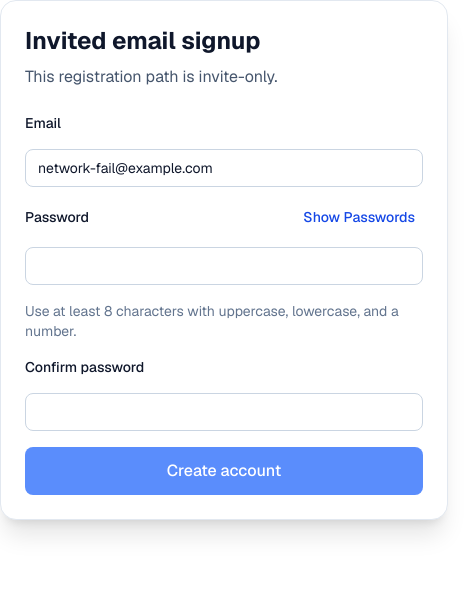
Test: InviteEmailSignupForm › shows generic error on network failure
This screenshot has width=465, height=608.
Step 1. Type "Secret123" into the password field labelled "Password" → (224, 266), box [25,247,423,285]
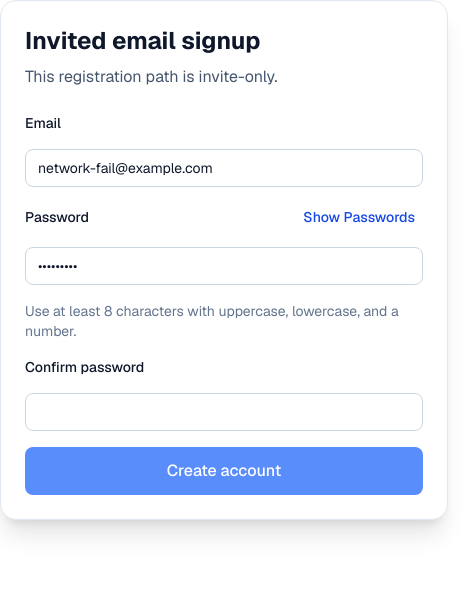
Step 2. Type "Secret123" into the password field labelled "Confirm password" → (224, 412), box [25,393,423,431]
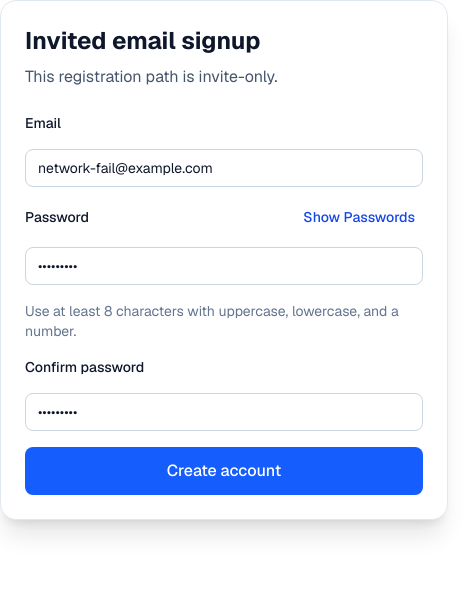
Step 3. Click the button "Create account" → (224, 471), box [25,447,423,495]
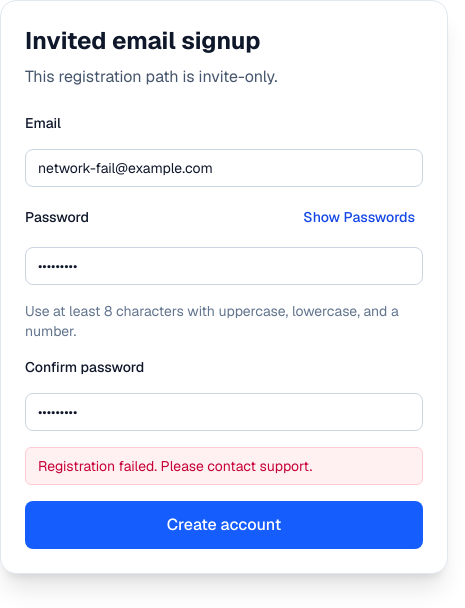
Now the text "Registration failed. Please contact support." is shown, box [25,447,423,485]
